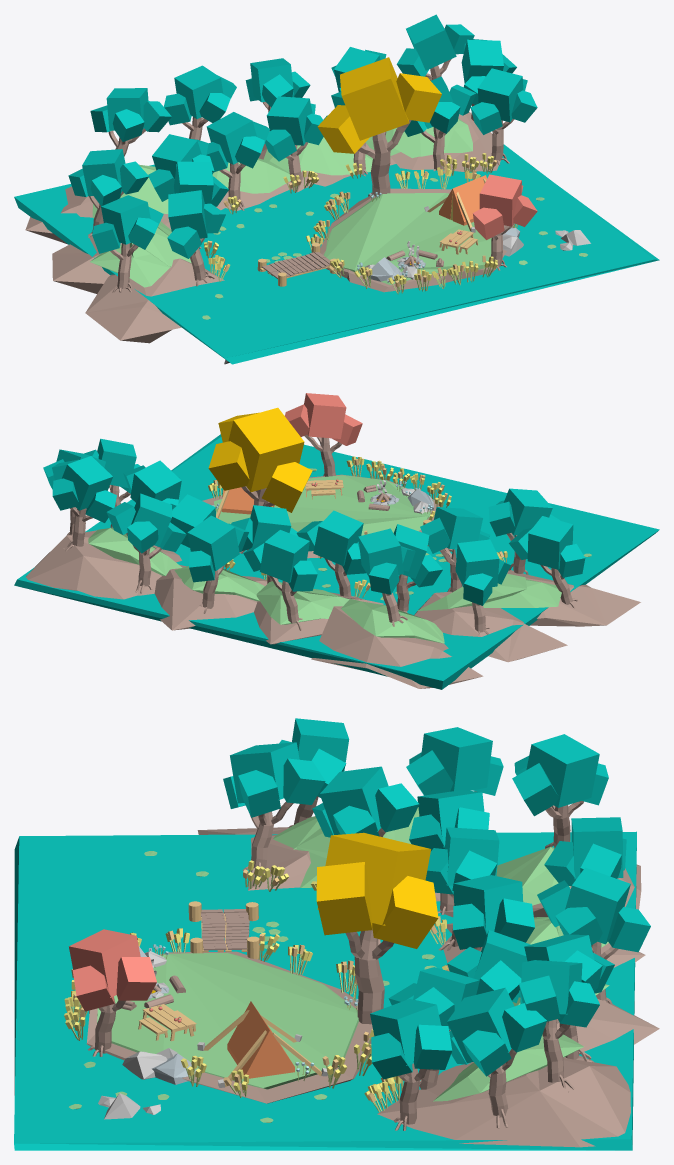
Rendered from camp.glb.
3 views of the same model, one above another, from view 1: azimuth 30°, elevation 25°; view 2: azimuth 150°, elevation 25°; view 3: azimuth 270°, elevation 25° (orthographic). The views are drawn at different scales.
Visible parts, largest first — view 1: group2136008734, group1996960513, group151683662, group603141852, group1472950353, group1052670248, group760265186, group2099061238, group1420377134, group1774111551, group684750817, group1327080236 (+22 smaller); view 2: group2136008734, group151683662, group1297782163, group1996960513, group880033640, group1242887192, group1004619122, group1776715167, group760265186, group1472950353, group1774111551, group853010250 (+21 smaller); view 3: group2136008734, group1996960513, group151683662, group1297782163, group912524470, group1327080236, group684750817, group1052670248, group1774111551, group761897651, group1458085261, group1004619122 (+25 smaller).
Part boxes in pixels (left/top/right/bottom): group2136008734: left=14, top=143, right=659, bottom=364; group1996960513: left=323, top=193, right=491, bottom=284; group151683662: left=317, top=57, right=441, bottom=196; group603141852: left=85, top=258, right=224, bottom=343; group1472950353: left=92, top=195, right=163, bottom=292; group1052670248: left=470, top=68, right=537, bottom=165; group760265186: left=163, top=65, right=236, bottom=140; group2099061238: left=206, top=112, right=269, bottom=210; group1420377134: left=68, top=149, right=148, bottom=238; group1774111551: left=472, top=174, right=537, bottom=270; group684750817: left=90, top=88, right=171, bottom=156; group1327080236: left=167, top=190, right=225, bottom=286; group2136008734: left=14, top=434, right=659, bottom=689; group151683662: left=208, top=407, right=312, bottom=553; group1297782163: left=26, top=530, right=181, bottom=599; group1996960513: left=214, top=475, right=433, bottom=535; group880033640: left=311, top=606, right=483, bottom=688; group1242887192: left=414, top=591, right=567, bottom=662; group1004619122: left=52, top=456, right=116, bottom=551; group1776715167: left=106, top=493, right=186, bottom=593; group760265186: left=243, top=530, right=317, bottom=630; group1472950353: left=509, top=516, right=585, bottom=608; group1774111551: left=285, top=393, right=362, bottom=476; group853010250: left=154, top=564, right=267, bottom=630; group2136008734: left=14, top=831, right=636, bottom=1150; group1996960513: left=97, top=953, right=358, bottom=1089; group151683662: left=316, top=832, right=438, bottom=1024; group1297782163: left=377, top=1055, right=630, bottom=1147; group912524470: left=447, top=987, right=546, bottom=1128; group1327080236: left=223, top=742, right=325, bottom=877; group684750817: left=512, top=734, right=608, bottom=848; group1052670248: left=370, top=999, right=452, bottom=1130; group1774111551: left=69, top=929, right=156, bottom=1056; group761897651: left=537, top=867, right=650, bottom=1004; group1458085261: left=312, top=766, right=419, bottom=837; group1004619122: left=519, top=960, right=599, bottom=1092.
Bounding box in the file's own units: 4.24 × 1.47 × 3.31.
